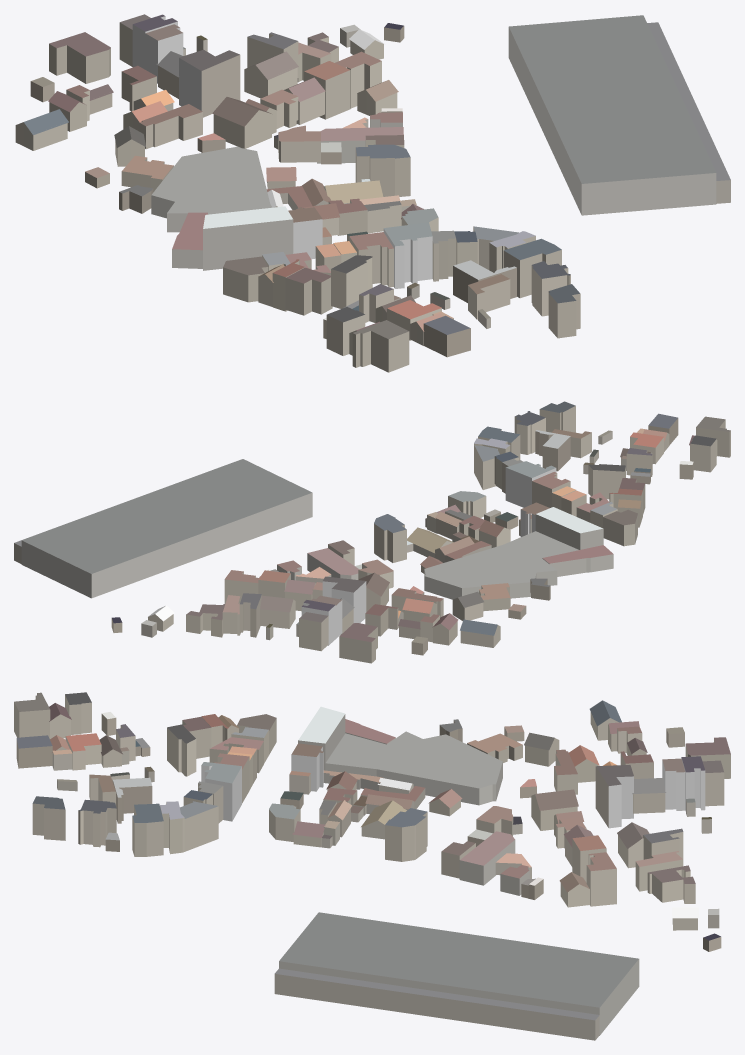
3 views of the same model, one above another, from view 1: azimuth 30°, elevation 25°; view 2: azimuth 150°, elevation 25°; view 3: azimuth 270°, elevation 25° (orthographic). The views are drawn at different scales.
Visible parts, largest first — view 1: tuile; view 2: tuile; view 3: tuile.
Boxes of the visible parts, bbox=[...] form: tuile: bbox=[15, 14, 730, 372]; tuile: bbox=[14, 401, 730, 663]; tuile: bbox=[14, 692, 730, 1040].
Bounding box in the file's own units: 231 × 32.11 × 255.
